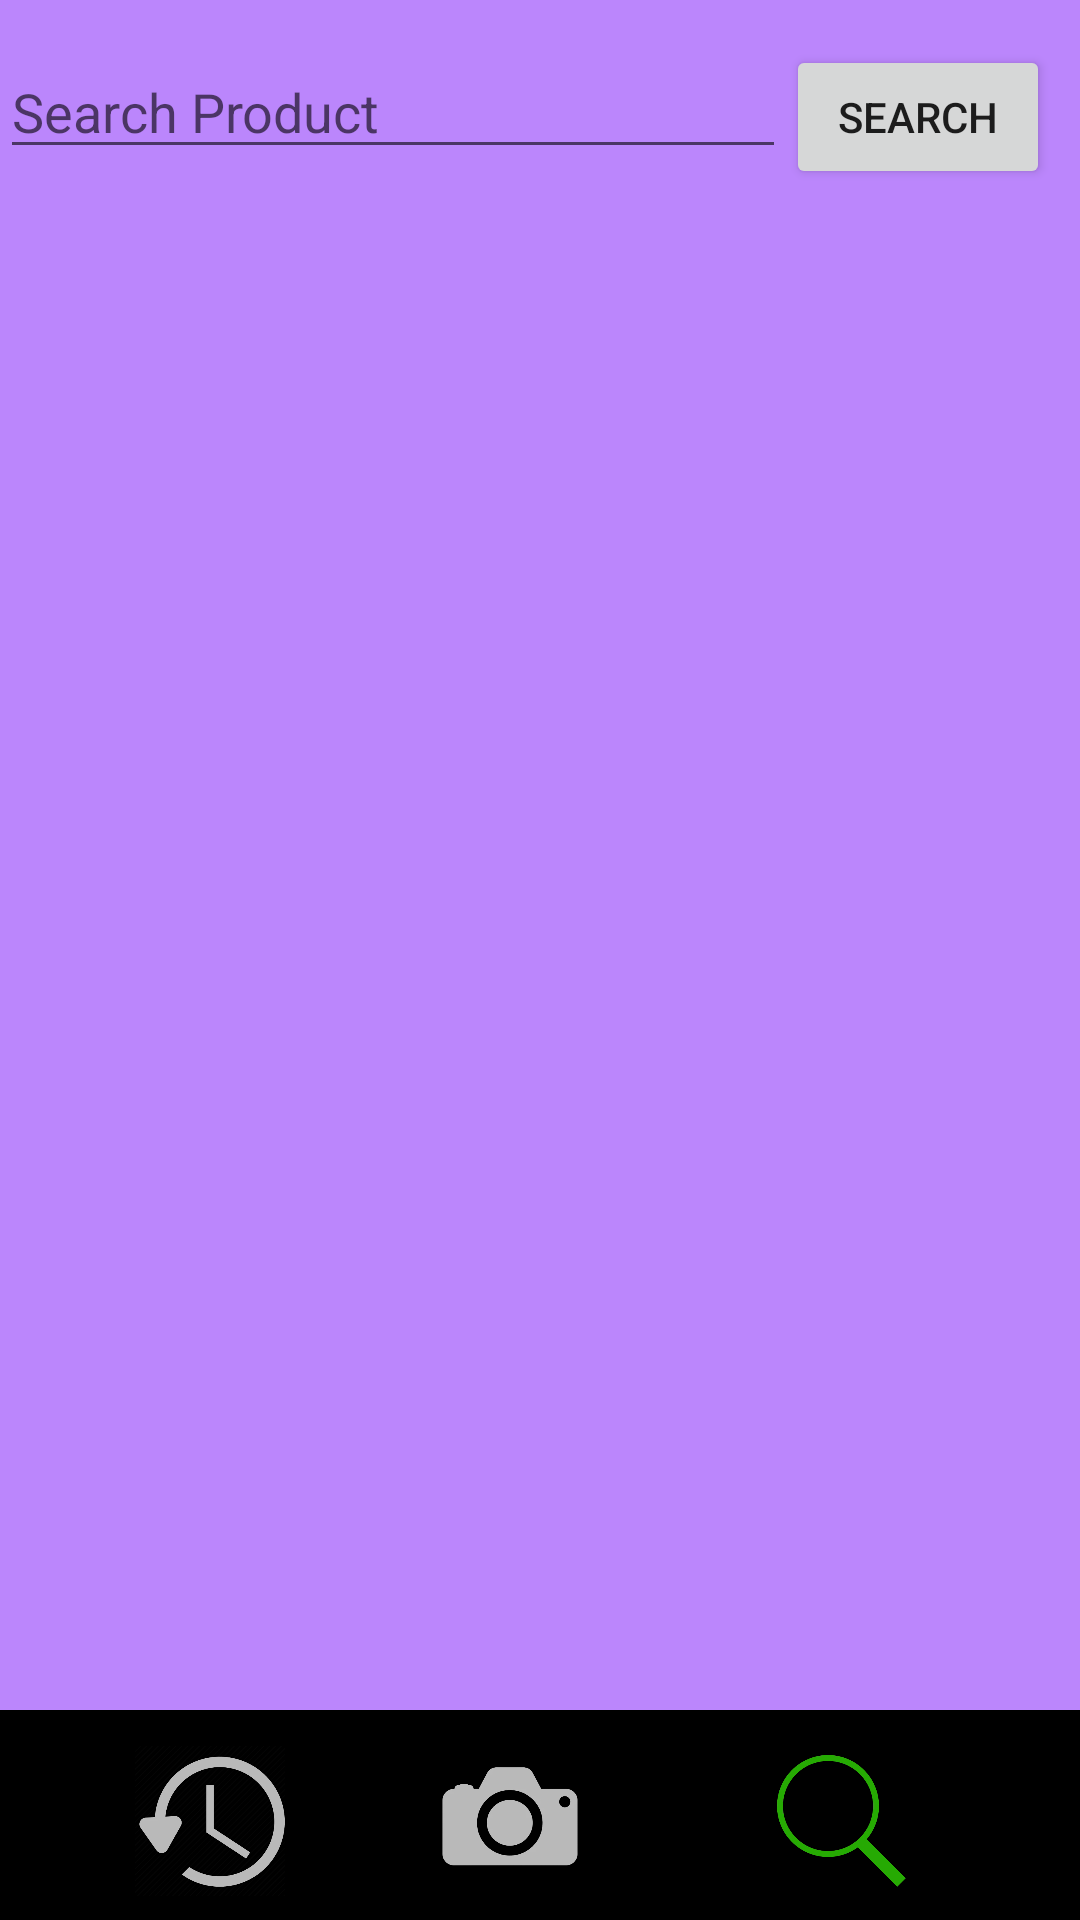

Where icons sit on this 1080×1920 app screen, as BBox(x1, y1, x2, y2):
camera: BBox(442, 1767, 578, 1866)
history: BBox(139, 1756, 285, 1887)
search: BBox(777, 1755, 906, 1887)
